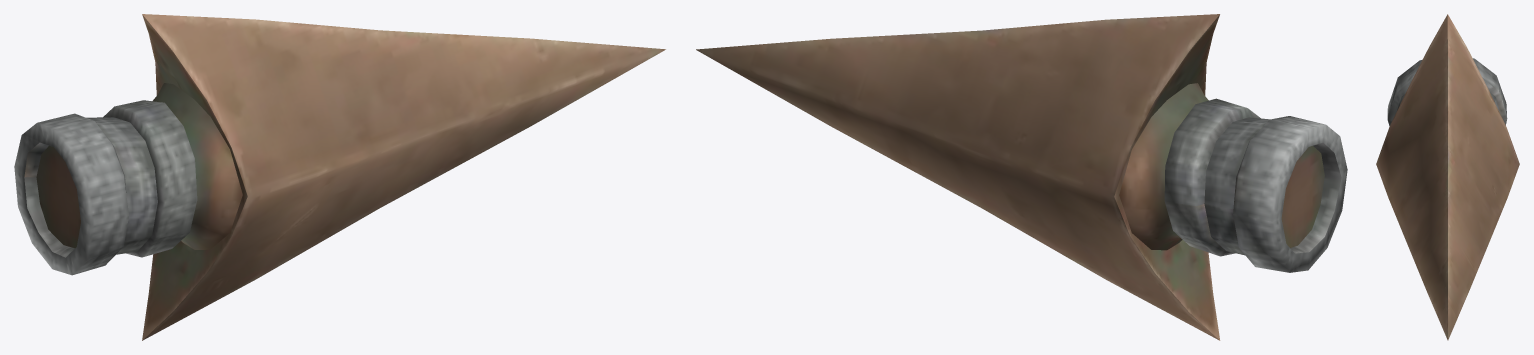
3 renders of one model, left to right at view 1: azimuth 30°, elevation 25°; view 2: azimuth 150°, elevation 25°; view 3: azimuth 270°, elevation 25°, orthographic. The views are drawn at different scales.
Parts seen in each view (by area): view 1: SM_ArrowHead_Bronze_01_LOD0; view 2: SM_ArrowHead_Bronze_01_LOD0; view 3: SM_ArrowHead_Bronze_01_LOD0.
Part boxes in pixels (x1=…): SM_ArrowHead_Bronze_01_LOD0: x1=14, y1=14, x2=665, y2=340; SM_ArrowHead_Bronze_01_LOD0: x1=696, y1=14, x2=1347, y2=340; SM_ArrowHead_Bronze_01_LOD0: x1=1376, y1=14, x2=1519, y2=340.
Bounding box in the file's own units: 0.1007 × 0.051 × 0.0261.
Materials: 1 (1 with a texture image).
